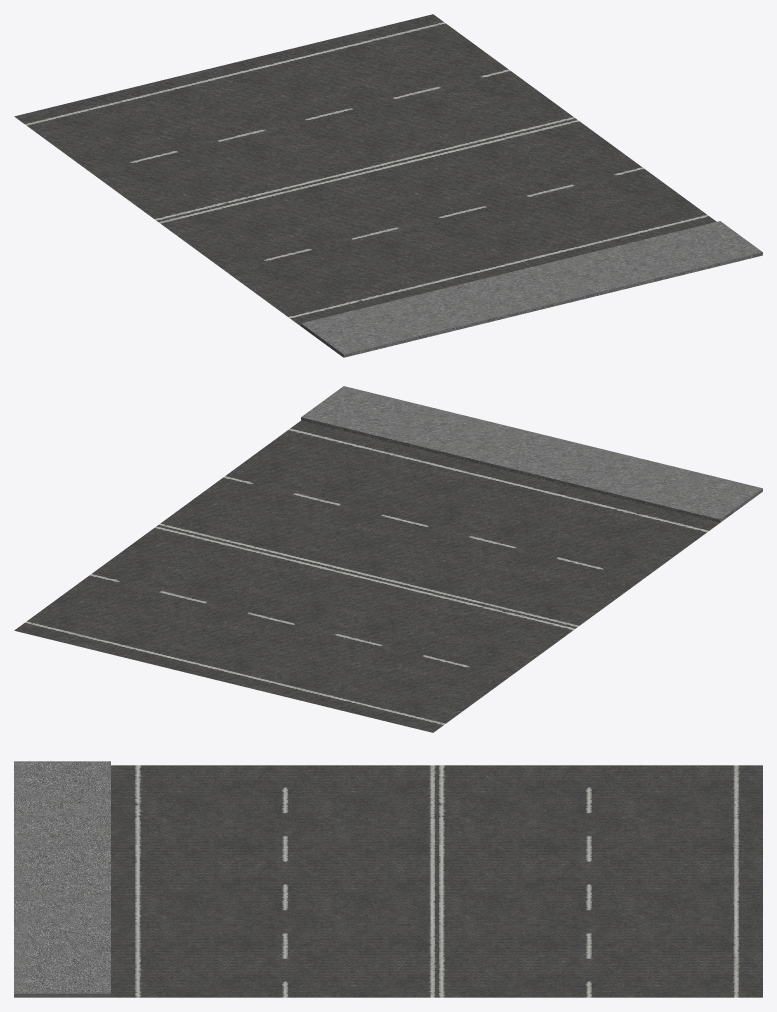
Rendered from Highway_Join_1.obj.
3 views of the same model, one above another, from view 1: azimuth 30°, elevation 25°; view 2: azimuth 150°, elevation 25°; view 3: azimuth 270°, elevation 25° (orthographic). The views are drawn at different scales.
Visible parts, largest first — view 1: Highway_Join_1; view 2: Highway_Join_1; view 3: Highway_Join_1.
Boxes of the visible parts, x1=… form: Highway_Join_1: x1=14, y1=14, x2=762, y2=357; Highway_Join_1: x1=14, y1=386, x2=762, y2=732; Highway_Join_1: x1=14, y1=761, x2=762, y2=997.
Bounding box in the file's own units: 15.79 × 0.1182 × 21.5.
